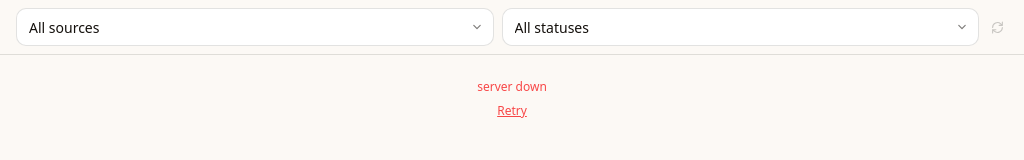
Test case: ErrorsTab › shows an error state with Retry when the fetch fails (SCN-107)
expect the text "server down" is shown: met, box [477, 79, 547, 95]
Click the button "Retry".
click(512, 111)  # box [497, 103, 527, 119]
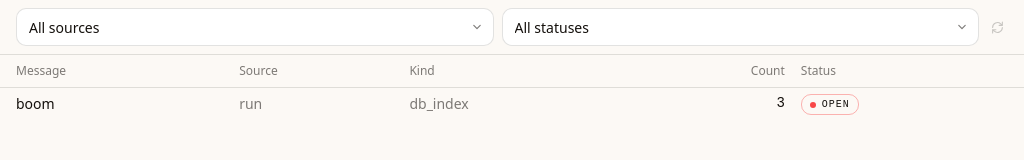
expect the text "boom" is shown: met, box [0, 87, 231, 119]
